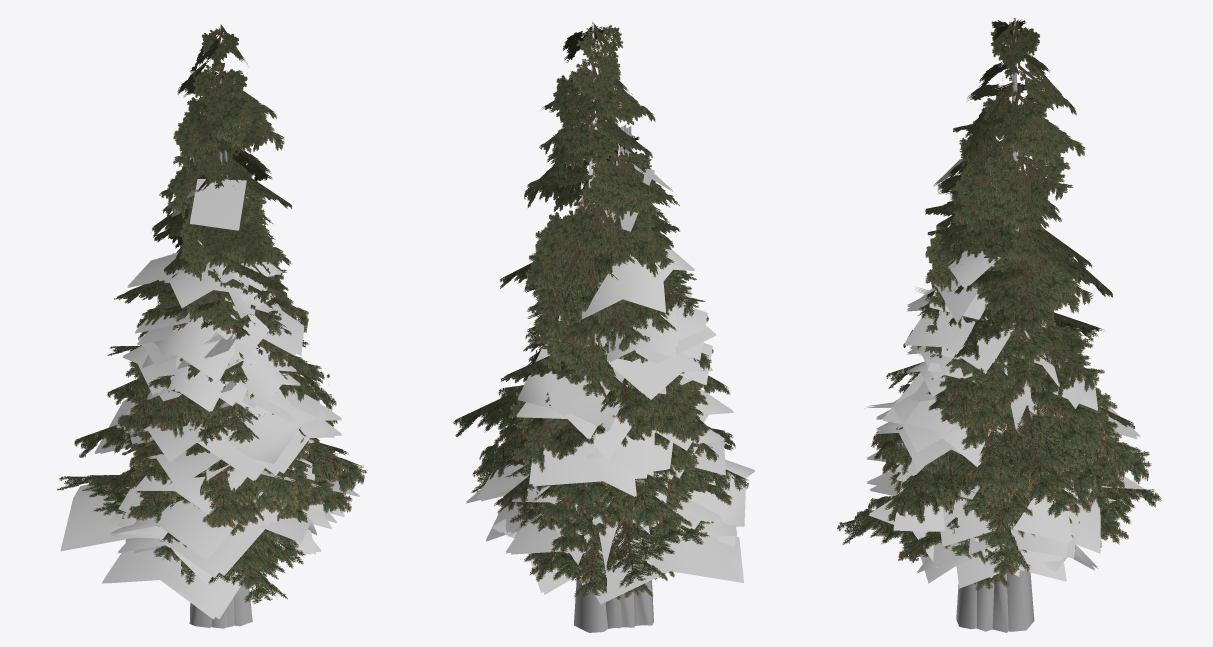
File: pine_trees_low_FBX.fbx
3 views of the same model, side by side, from view 1: azimuth 30°, elevation 25°; view 2: azimuth 150°, elevation 25°; view 3: azimuth 270°, elevation 25° (orthographic). The views are drawn at different scales.
Visible parts, largest first — view 1: 02, 03, 06, 14, 16, 01, 07, 11, 08, 05, 10, 13 (+4 smaller); view 2: 03, 02, 14, 06, 11, 10, 16, 17, 18, 01, 05, 15 (+3 smaller); view 3: 03, 02, 16, 18, 13, 01, 05, 08, 15, 14, 06, 07 (+2 smaller).
Part boxes in pixels (x1=…): 02: x1=57, y1=174, x2=366, y2=603; 03: x1=74, y1=24, x2=348, y2=575; 06: x1=110, y1=151, x2=359, y2=628; 14: x1=60, y1=236, x2=345, y2=619; 16: x1=100, y1=260, x2=352, y2=619; 01: x1=103, y1=175, x2=336, y2=589; 07: x1=118, y1=263, x2=317, y2=626; 11: x1=111, y1=251, x2=332, y2=627; 08: x1=134, y1=292, x2=316, y2=626; 05: x1=138, y1=150, x2=308, y2=627; 10: x1=101, y1=257, x2=334, y2=627; 13: x1=225, y1=261, x2=341, y2=529; 03: x1=453, y1=21, x2=730, y2=632; 02: x1=471, y1=160, x2=748, y2=628; 14: x1=481, y1=229, x2=743, y2=604; 06: x1=511, y1=126, x2=754, y2=554; 11: x1=608, y1=231, x2=733, y2=625; 10: x1=560, y1=237, x2=729, y2=542; 16: x1=477, y1=232, x2=731, y2=592; 17: x1=535, y1=317, x2=707, y2=503; 18: x1=486, y1=325, x2=643, y2=592; 01: x1=497, y1=150, x2=718, y2=590; 05: x1=505, y1=125, x2=711, y2=554; 15: x1=466, y1=336, x2=703, y2=628; 03: x1=868, y1=18, x2=1161, y2=631; 02: x1=837, y1=152, x2=1143, y2=590; 16: x1=871, y1=216, x2=1137, y2=578; 18: x1=898, y1=305, x2=1095, y2=632; 13: x1=876, y1=250, x2=1051, y2=631; 01: x1=854, y1=159, x2=1096, y2=564; 05: x1=887, y1=140, x2=1100, y2=553; 08: x1=869, y1=290, x2=1094, y2=629; 15: x1=917, y1=316, x2=1109, y2=577; 14: x1=876, y1=229, x2=1146, y2=574; 06: x1=866, y1=134, x2=1100, y2=571; 07: x1=866, y1=231, x2=1095, y2=505.
Bounding box in the file's own units: 982 × 1754 × 992.
